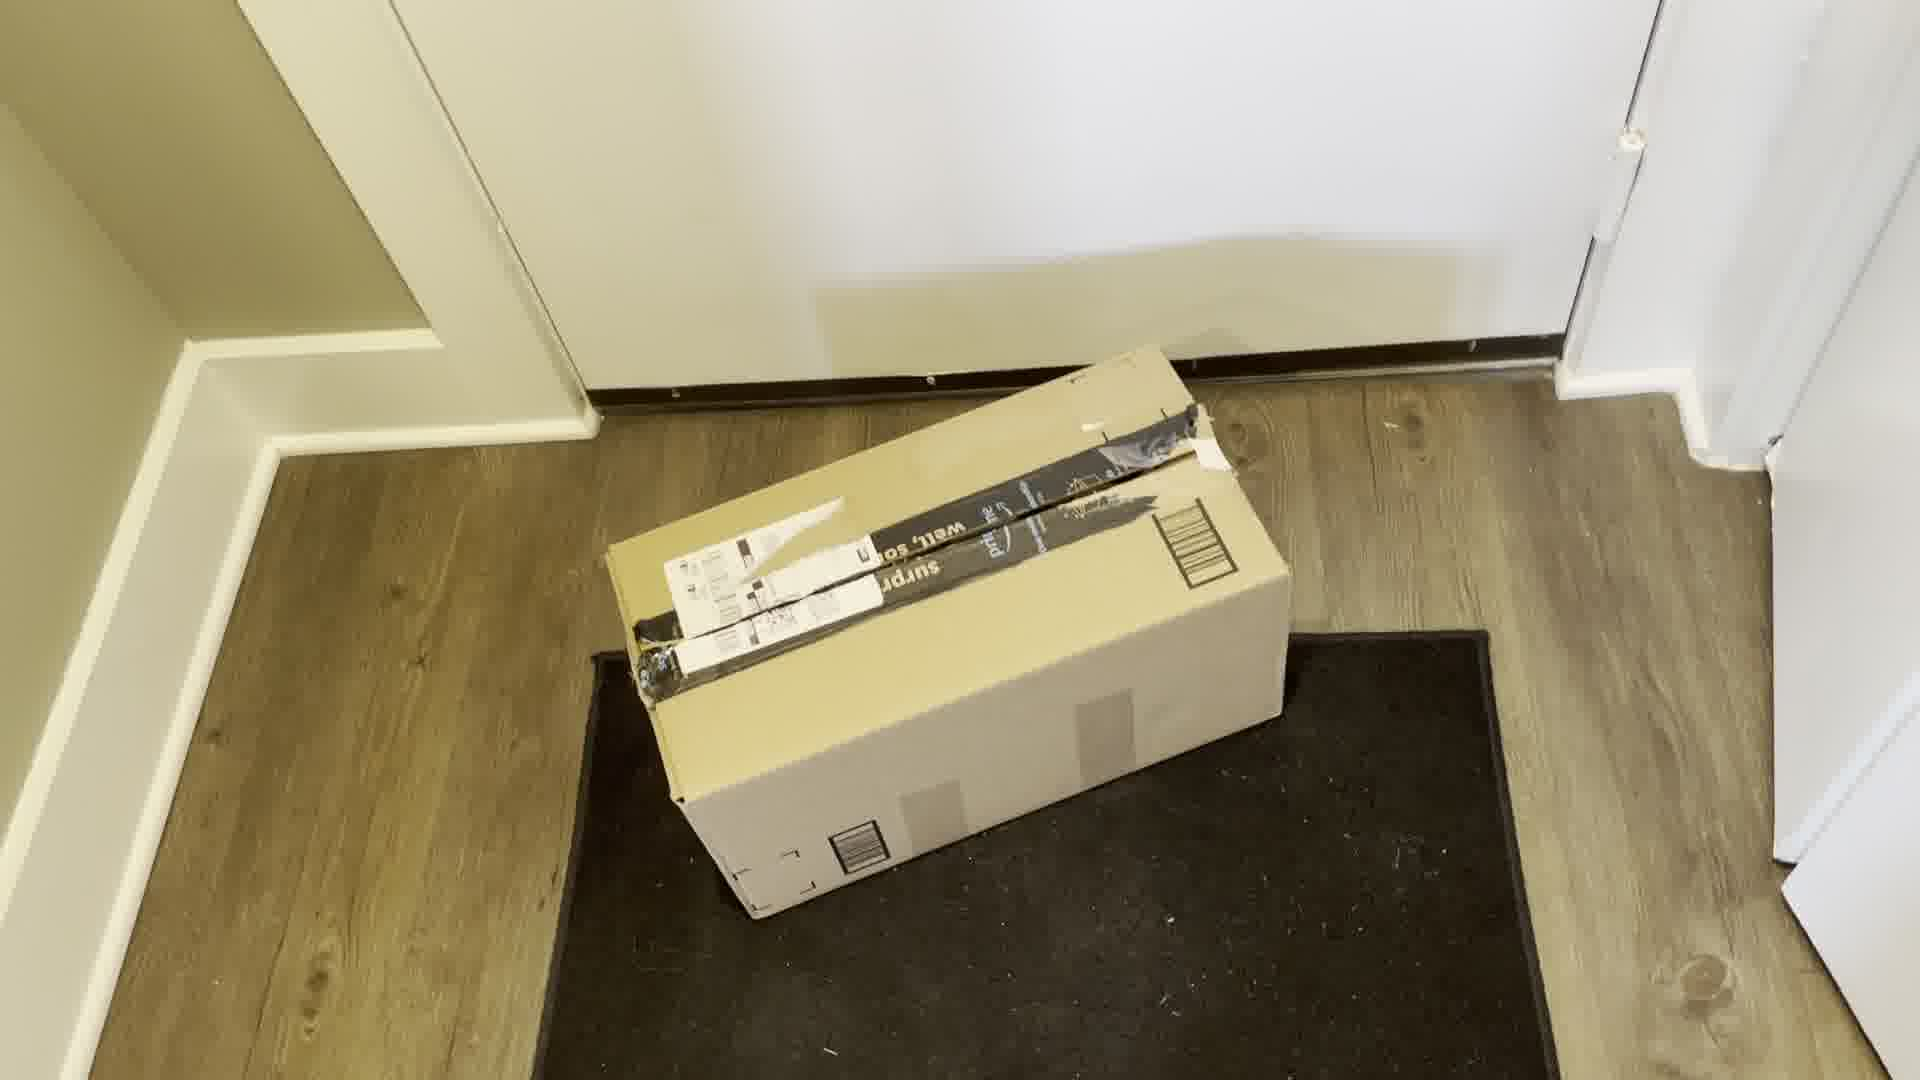box: (580, 368, 1338, 894)
